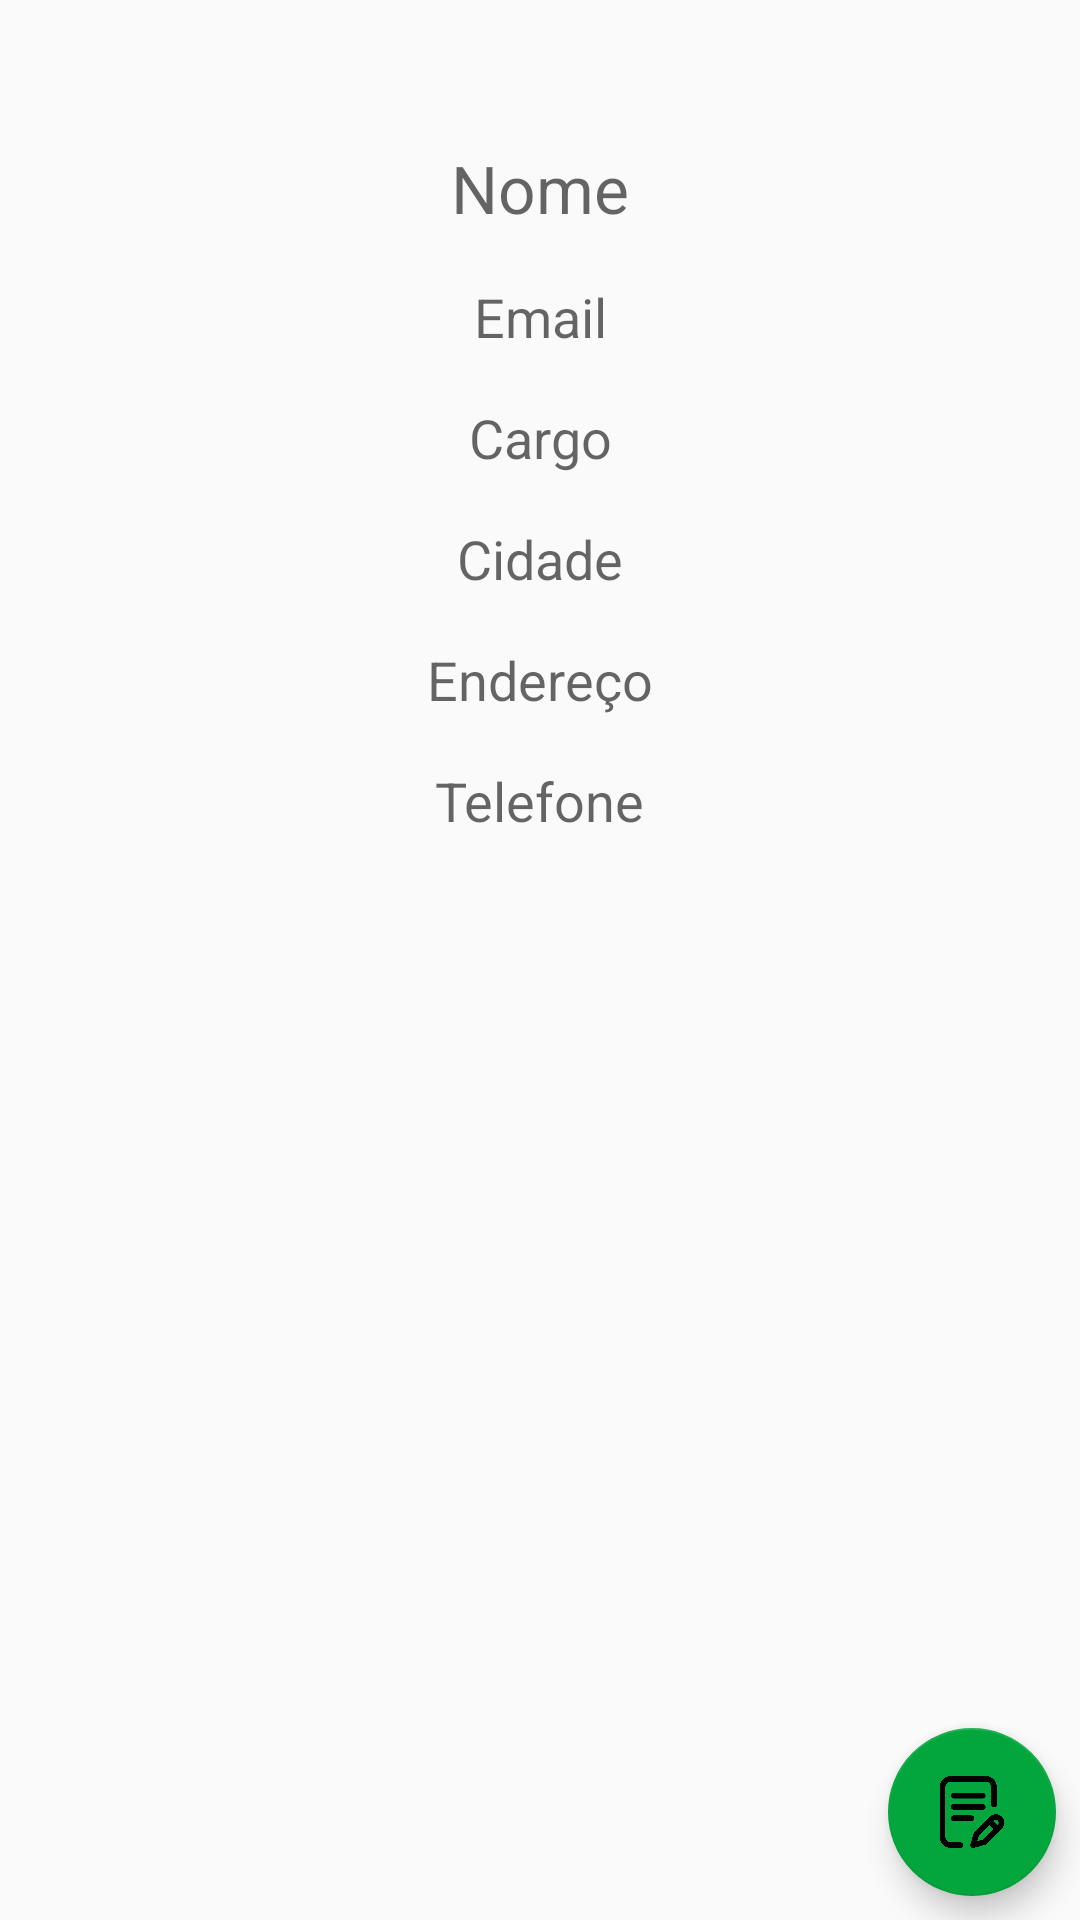

Icon click points for this 1080 × 1920 phone screenshot, format point (x, y):
writing: point (972, 1812)
